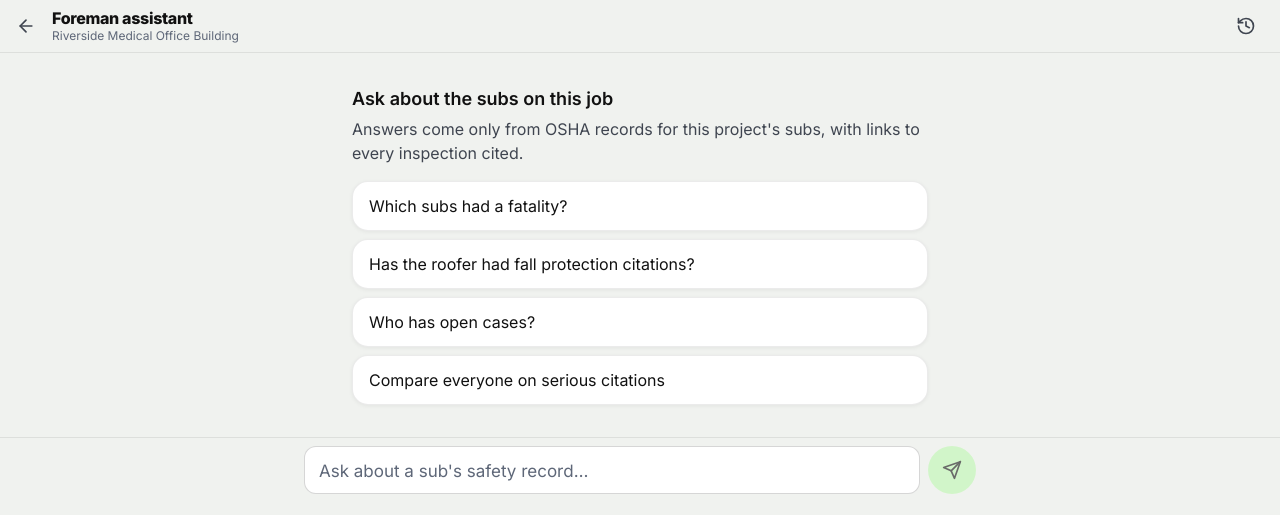
Test: Foreman chat › New chat clears the conversation, and the next question starts another chat
In the text box named "Your question": x=612, y=470 top-left (304, 446), bottom-right (920, 494), type "Who has open cases?"
Then press Enter
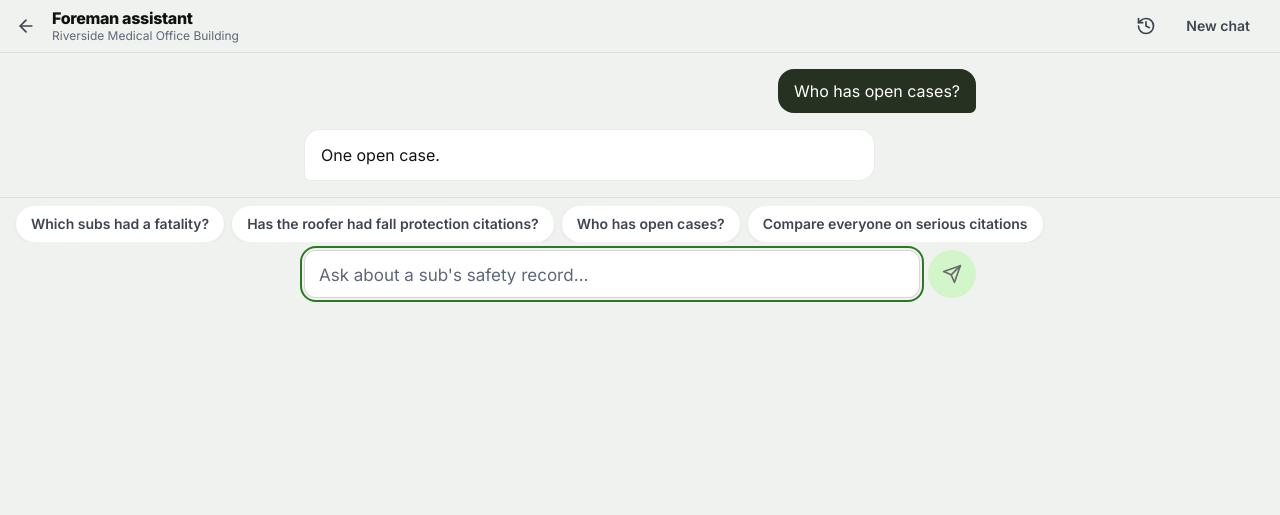
Expected: the text "One open case." is shown, top-left (321, 145), bottom-right (440, 165)
Click the button "New chat": x=1218, y=26 top-left (1172, 8), bottom-right (1264, 44)
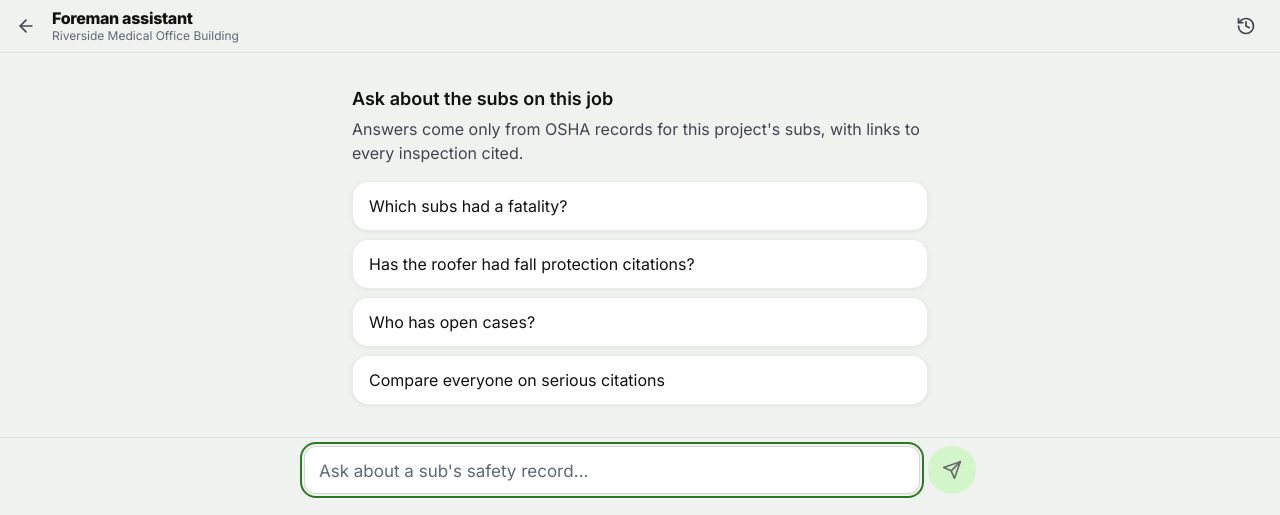
Expected: the text "One open case." is gone
Click the button "Which subs had a fatality?": x=468, y=206 top-left (352, 181), bottom-right (928, 231)
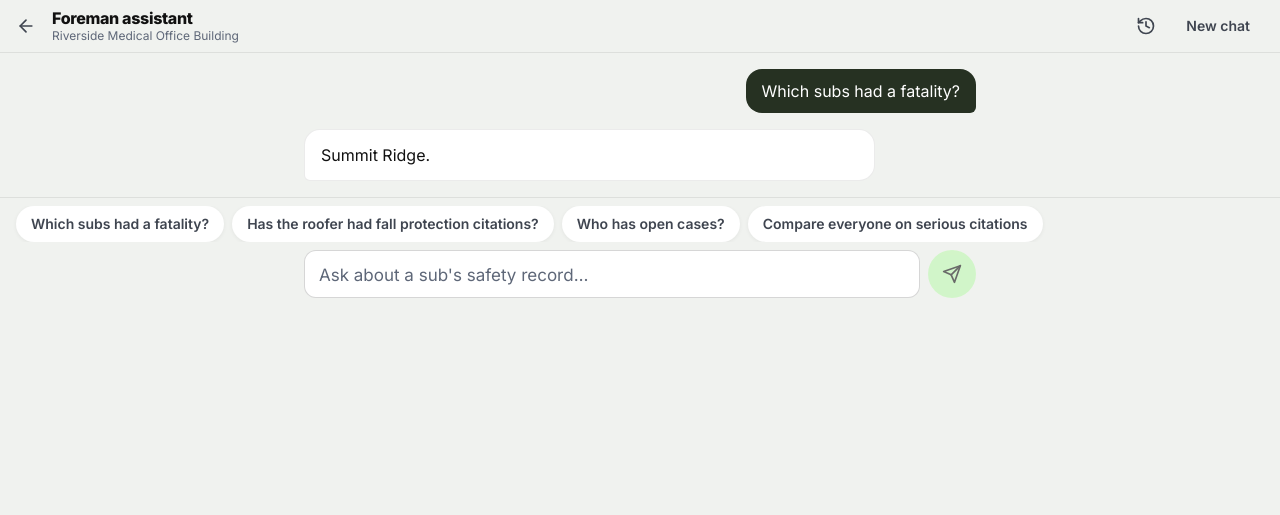
Expected: the text "Summit Ridge." is shown, top-left (321, 145), bottom-right (430, 165)
